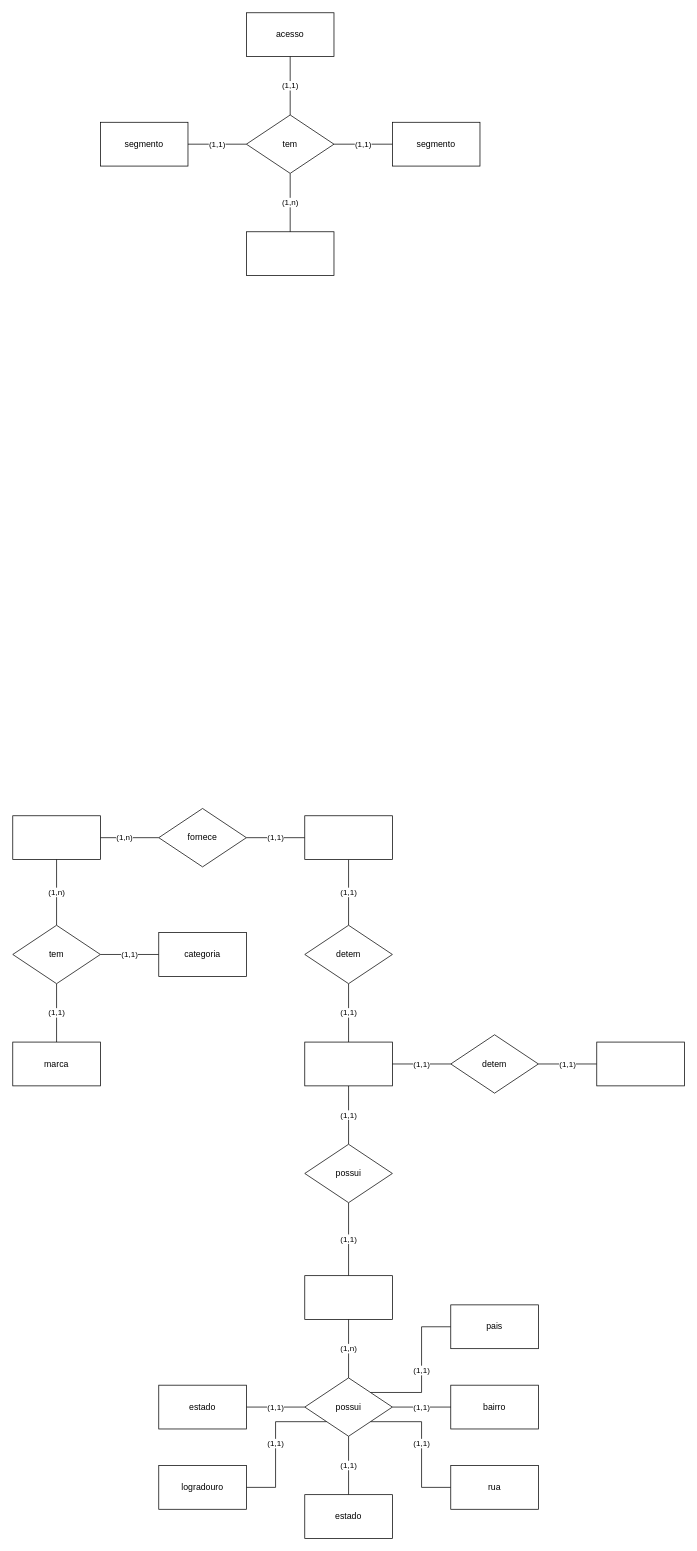
This 697x1551 diagram has some shape labels left out. Here are the shapes that lost their labels. From the top down, the centre of each, then its label:
At [290,253]: "usuário".
At [56,837]: "item".
At [348,837]: "fornecedor".
At [348,1063]: "endereço".
At [640,1063]: "cliente".
At [348,1297]: "CEP".
